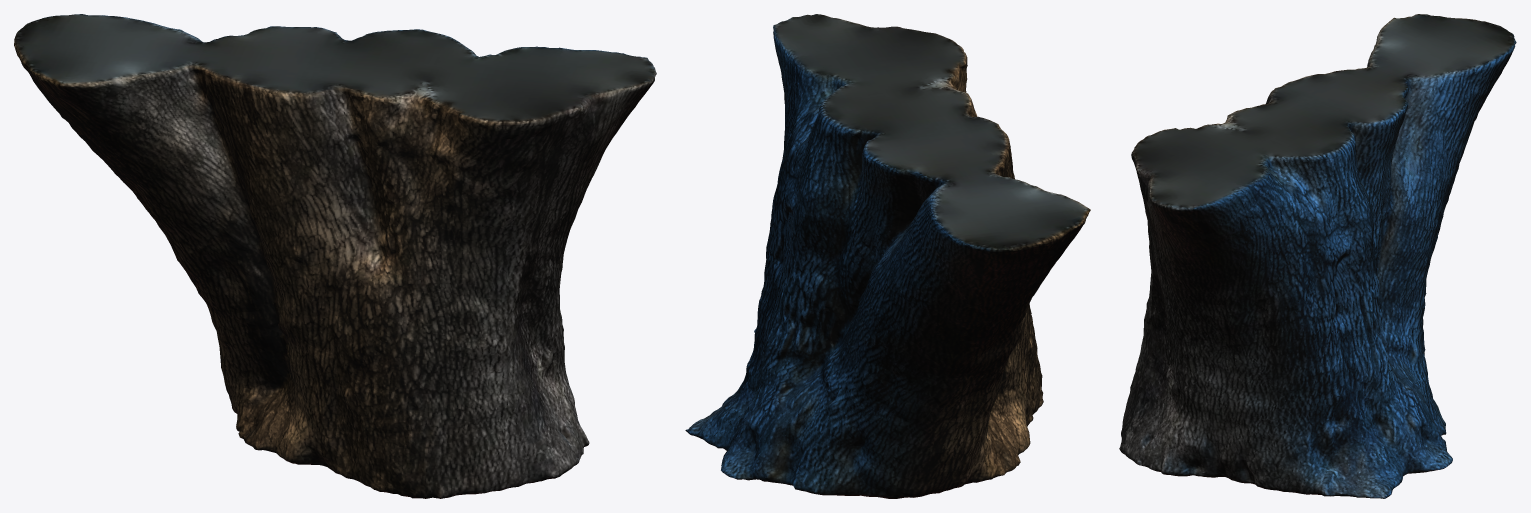
The model's file is oak_live.glb.
3 views of the same model, side by side, from view 1: azimuth 30°, elevation 25°; view 2: azimuth 150°, elevation 25°; view 3: azimuth 270°, elevation 25° (orthographic). The views are drawn at different scales.
Visible parts, largest first — view 1: LiveOakLarge_Retop; view 2: LiveOakLarge_Retop; view 3: LiveOakLarge_Retop.
Boxes of the visible parts, left/top/right/bottom form: LiveOakLarge_Retop: left=14, top=14, right=656, bottom=498; LiveOakLarge_Retop: left=685, top=14, right=1090, bottom=498; LiveOakLarge_Retop: left=1119, top=14, right=1516, bottom=498.
Bounding box in the file's own units: 5.21 × 3.76 × 4.51.
Materials: 1 (1 with a texture image).
